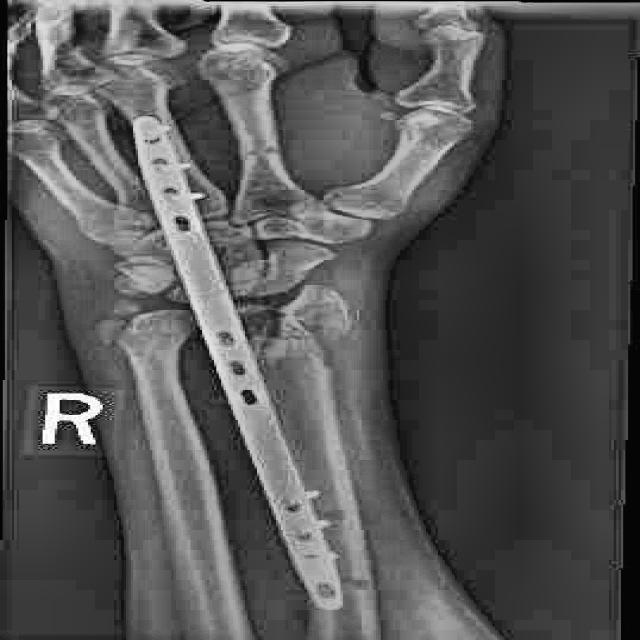wrist positive: (66, 245, 368, 373), (221, 129, 317, 172), (59, 218, 186, 245), (194, 211, 271, 247)
